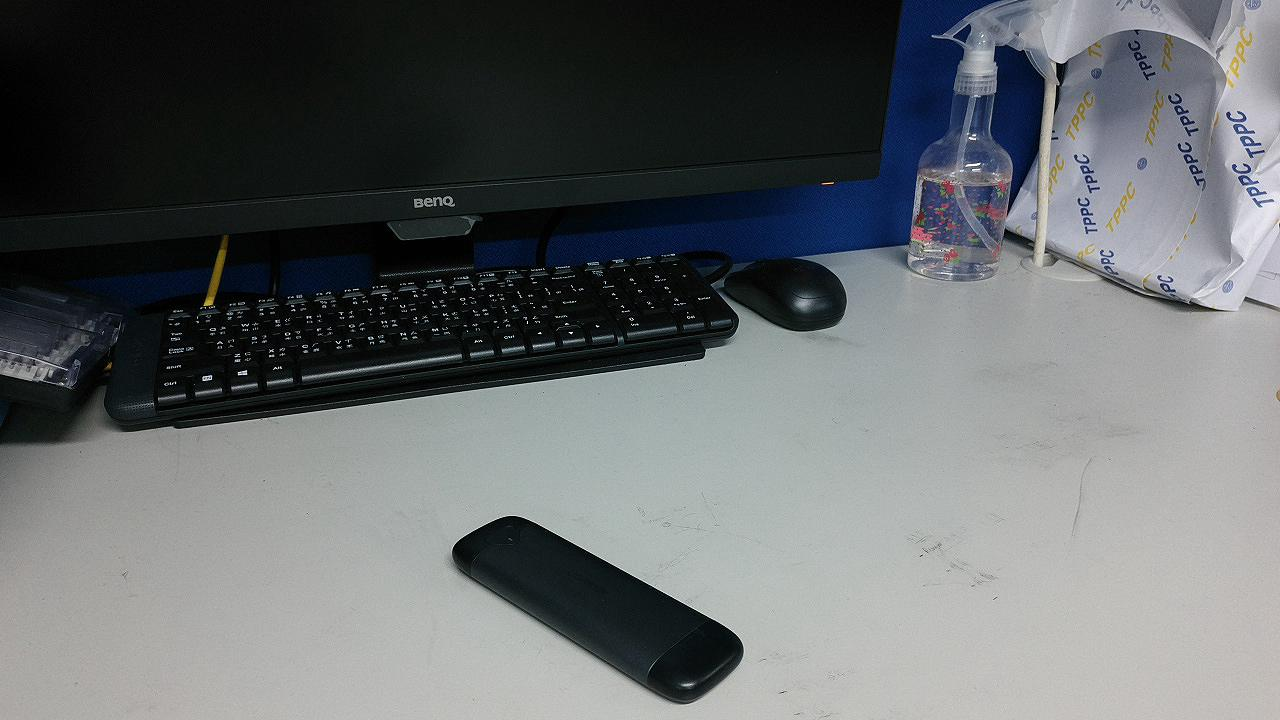blade: (656, 388, 689, 428)
grasp: (616, 334, 747, 406)
